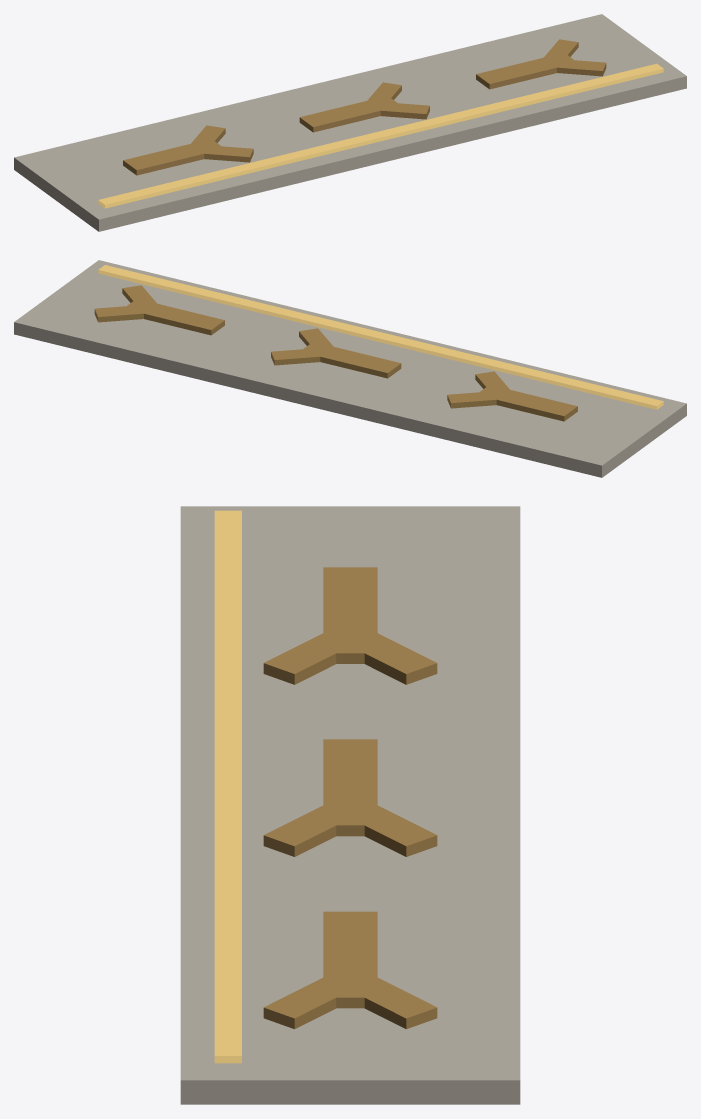
Rendered from hp_room_rm_museum_route_inlay.glb.
3 views of the same model, one above another, from view 1: azimuth 30°, elevation 25°; view 2: azimuth 150°, elevation 25°; view 3: azimuth 270°, elevation 25° (orthographic). The views are drawn at different scales.
Parts seen in each view (by area): view 1: inlay_bed, route_glow, arrow_shaft_0, arrow_shaft_2, arrow_shaft_1, arrow_head_a_1, arrow_head_a_2, arrow_head_a_0, arrow_head_b_1, arrow_head_b_2, arrow_head_b_0; view 2: inlay_bed, route_glow, arrow_shaft_0, arrow_shaft_2, arrow_shaft_1, arrow_head_b_1, arrow_head_b_2, arrow_head_b_0, arrow_head_a_1, arrow_head_a_2, arrow_head_a_0; view 3: inlay_bed, route_glow, arrow_shaft_0, arrow_shaft_2, arrow_shaft_1, arrow_head_a_1, arrow_head_b_1, arrow_head_a_2, arrow_head_a_0, arrow_head_b_2, arrow_head_b_0.
Part boxes in pixels (x1=…): inlay_bed: x1=14, y1=14, x2=686, y2=231; route_glow: x1=98, y1=63, x2=663, y2=208; arrow_shaft_0: x1=123, y1=139, x2=224, y2=175; arrow_shaft_2: x1=476, y1=53, x2=577, y2=89; arrow_shaft_1: x1=299, y1=98, x2=397, y2=132; arrow_head_a_1: x1=379, y1=102, x2=429, y2=119; arrow_head_a_2: x1=557, y1=59, x2=606, y2=76; arrow_head_a_0: x1=204, y1=146, x2=253, y2=162; arrow_head_b_1: x1=367, y1=82, x2=401, y2=103; arrow_head_b_2: x1=543, y1=39, x2=578, y2=60; arrow_head_b_0: x1=191, y1=125, x2=225, y2=143; inlay_bed: x1=14, y1=260, x2=686, y2=477; route_glow: x1=98, y1=265, x2=663, y2=409; arrow_shaft_0: x1=476, y1=385, x2=577, y2=421; arrow_shaft_2: x1=123, y1=299, x2=224, y2=335; arrow_shaft_1: x1=303, y1=344, x2=401, y2=378; arrow_head_b_1: x1=271, y1=348, x2=321, y2=365; arrow_head_b_2: x1=94, y1=305, x2=144, y2=322; arrow_head_b_0: x1=447, y1=392, x2=497, y2=408; arrow_head_a_1: x1=299, y1=328, x2=333, y2=349; arrow_head_a_2: x1=122, y1=285, x2=157, y2=306; arrow_head_a_0: x1=475, y1=371, x2=509, y2=390; inlay_bed: x1=180, y1=506, x2=520, y2=1104; route_glow: x1=214, y1=510, x2=241, y2=1063; arrow_shaft_0: x1=323, y1=567, x2=377, y2=663; arrow_shaft_2: x1=323, y1=911, x2=377, y2=1008; arrow_shaft_1: x1=323, y1=739, x2=377, y2=836; arrow_head_a_1: x1=263, y1=804, x2=355, y2=856; arrow_head_b_1: x1=347, y1=804, x2=437, y2=856; arrow_head_a_2: x1=263, y1=977, x2=354, y2=1029; arrow_head_a_0: x1=263, y1=632, x2=355, y2=684; arrow_head_b_2: x1=345, y1=977, x2=437, y2=1029; arrow_head_b_0: x1=346, y1=632, x2=437, y2=684.
Bounding box in the file's own units: 2 × 0.0575 × 0.5.
